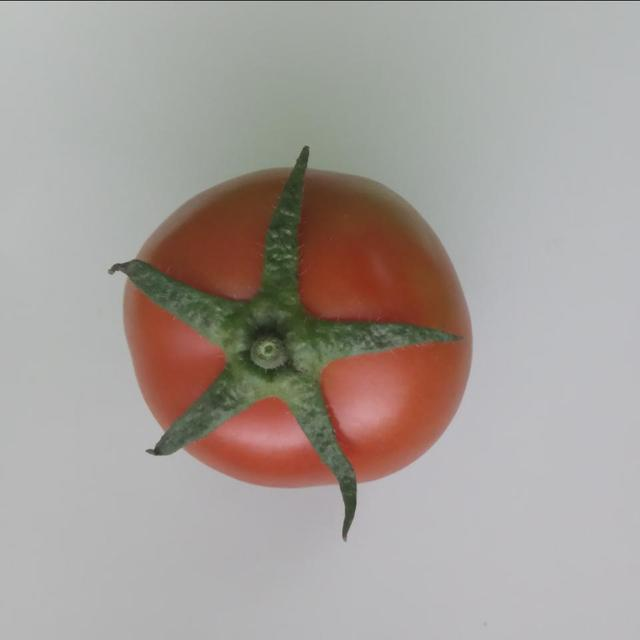Healthy Fruit: (78, 106, 319, 332)
